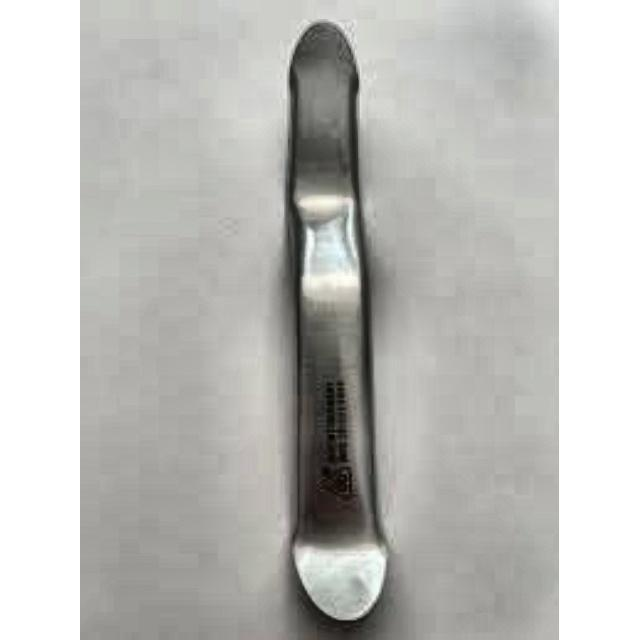separador: (282, 21, 389, 626)
